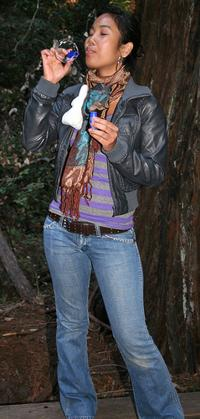person: (7, 8, 187, 419)
